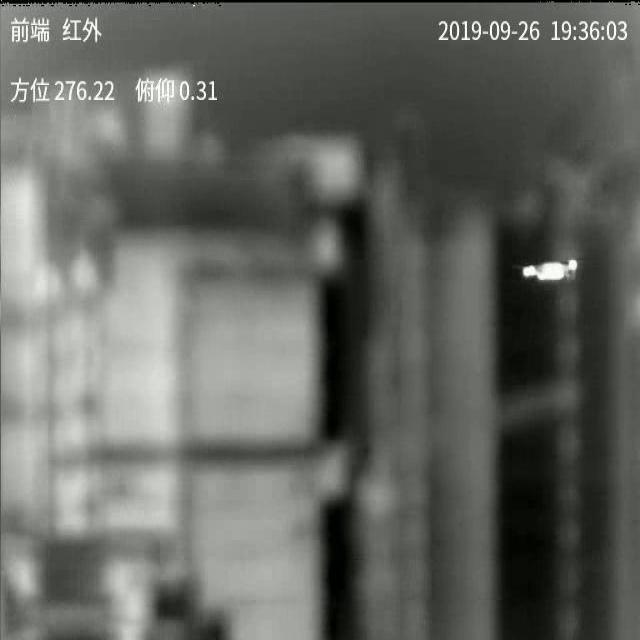drone: (513, 258, 588, 281)
